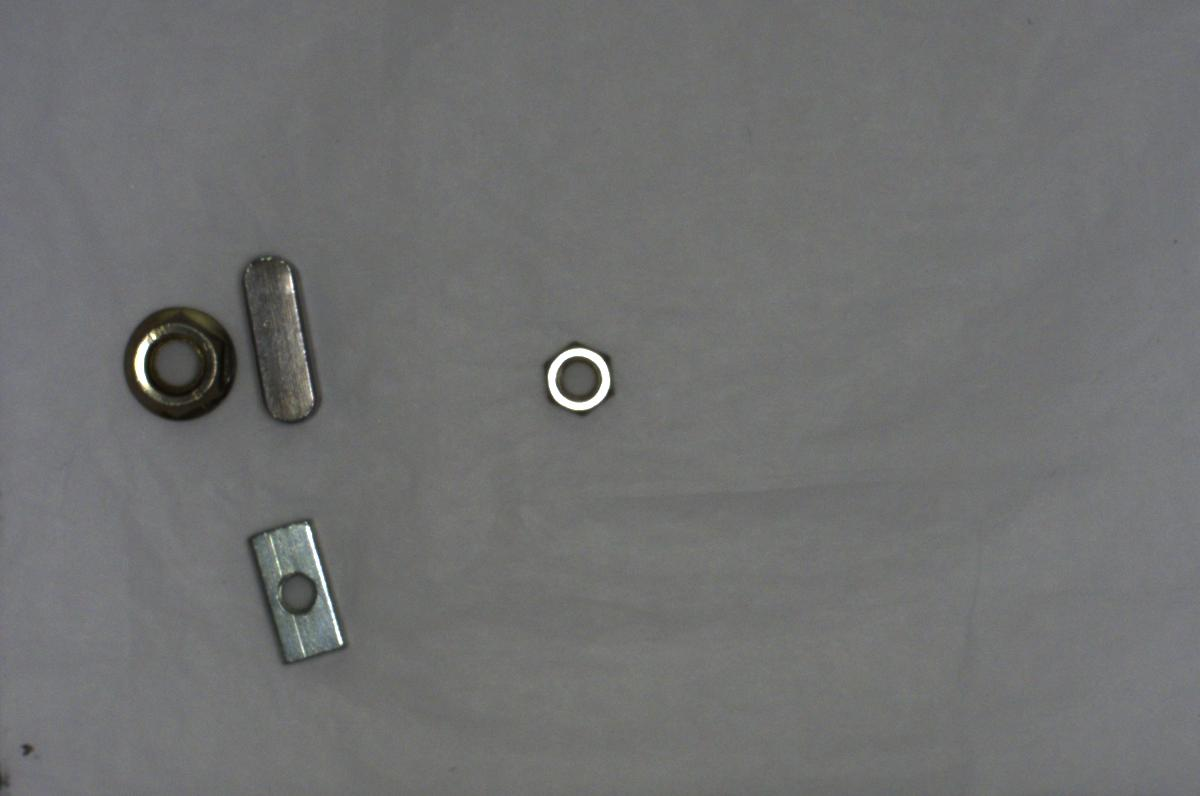Flange nut: (112, 300, 245, 427)
Hexagon nut: (533, 333, 619, 421)
Keybar: (237, 243, 322, 432)
Rectangular nut: (237, 510, 355, 680)
